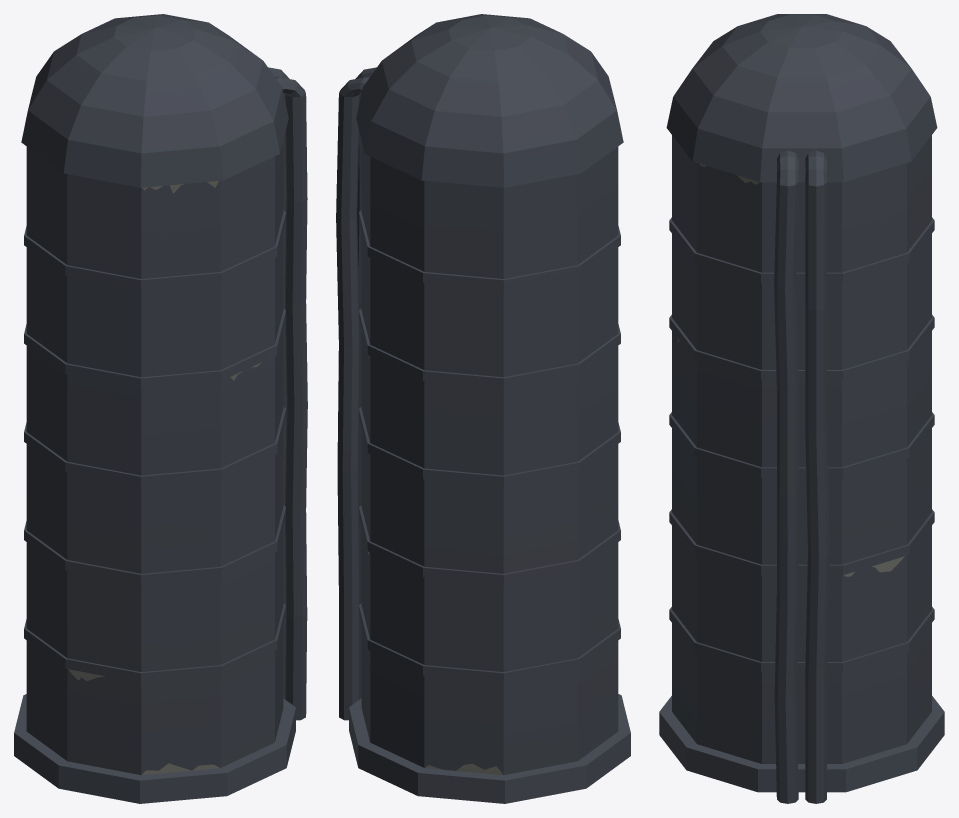
The model's file is Elevator_01.fbx.
The picture shows the model from 3 angles, left to right: view 1: azimuth 30°, elevation 25°; view 2: azimuth 150°, elevation 25°; view 3: azimuth 270°, elevation 25°; orthographic projection.
Visible parts, largest first — view 1: Elevator_01; view 2: Elevator_01; view 3: Elevator_01.
Boxes of the visible parts, <box> form: Elevator_01: <box>14,14,307,803</box>; Elevator_01: <box>336,14,630,803</box>; Elevator_01: <box>659,14,944,803</box>.
Bounding box in the file's own units: 2.71 × 7 × 2.56.
